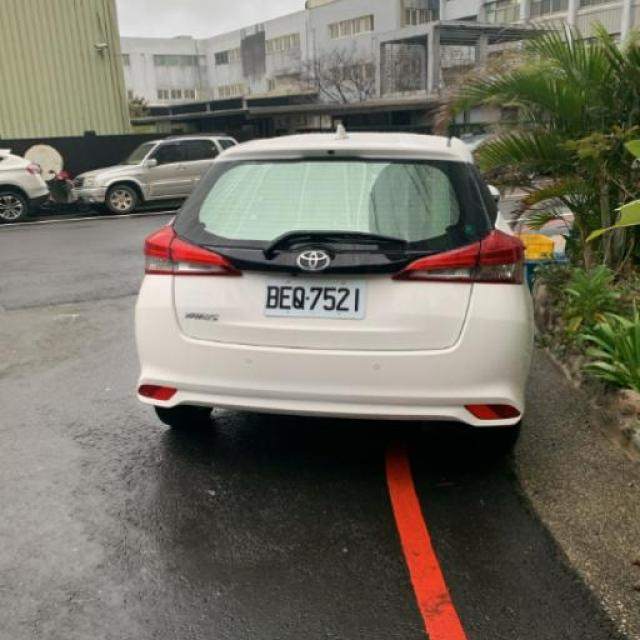Legalparking: (71, 138, 235, 212), (0, 149, 49, 221)
illegalparking: (136, 125, 532, 448)
